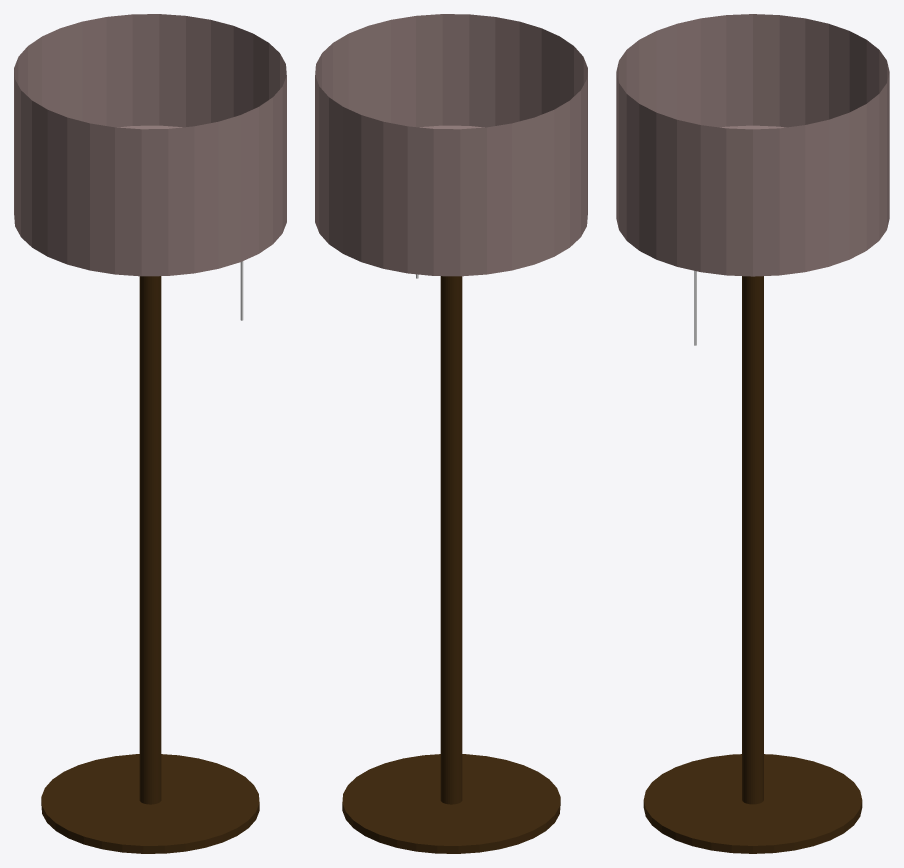
File: StaLamp_Woonkamer.fbx
3 renders of one model, left to right at view 1: azimuth 30°, elevation 25°; view 2: azimuth 150°, elevation 25°; view 3: azimuth 270°, elevation 25°, orthographic.
Visible parts, largest first — view 1: Cylinder.001, Cylinder, Cylinder.003; view 2: Cylinder.001, Cylinder, Cylinder.003; view 3: Cylinder.001, Cylinder, Cylinder.003.
Part boxes in pixels (box(x1,y1,x2,y2)): Cylinder.001: box(14, 14, 286, 276); Cylinder: box(41, 754, 259, 853); Cylinder.003: box(139, 276, 161, 804); Cylinder.001: box(315, 14, 587, 276); Cylinder: box(342, 754, 560, 853); Cylinder.003: box(440, 276, 462, 804); Cylinder.001: box(616, 14, 889, 276); Cylinder: box(643, 754, 862, 853); Cylinder.003: box(742, 276, 763, 804).
Size of the model in its own units: 200 by 594 by 200.
